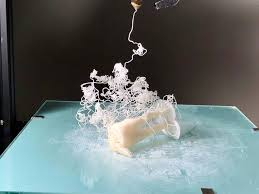fail: (71, 62, 178, 119), (119, 7, 153, 68), (142, 102, 187, 140), (77, 112, 113, 141)
